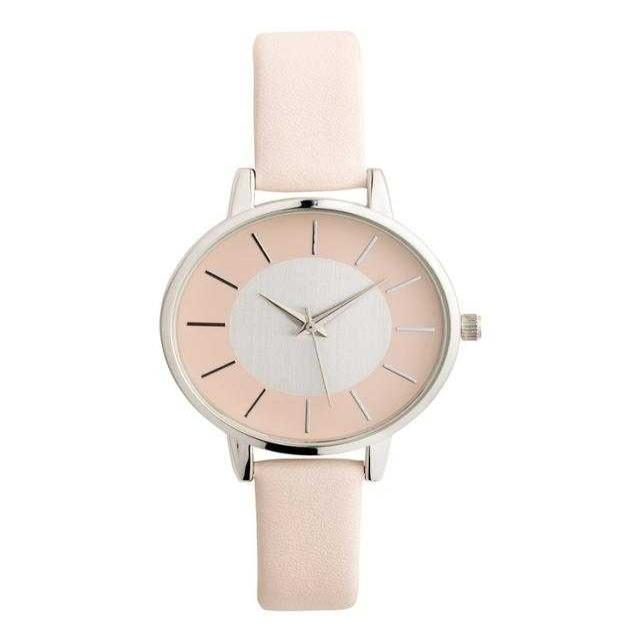watch: (176, 200, 481, 454)
